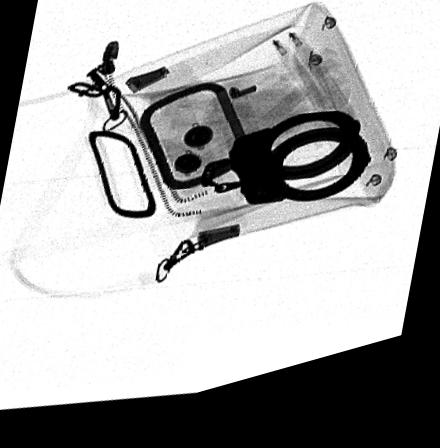HandCuffs: (199, 129, 371, 219)
